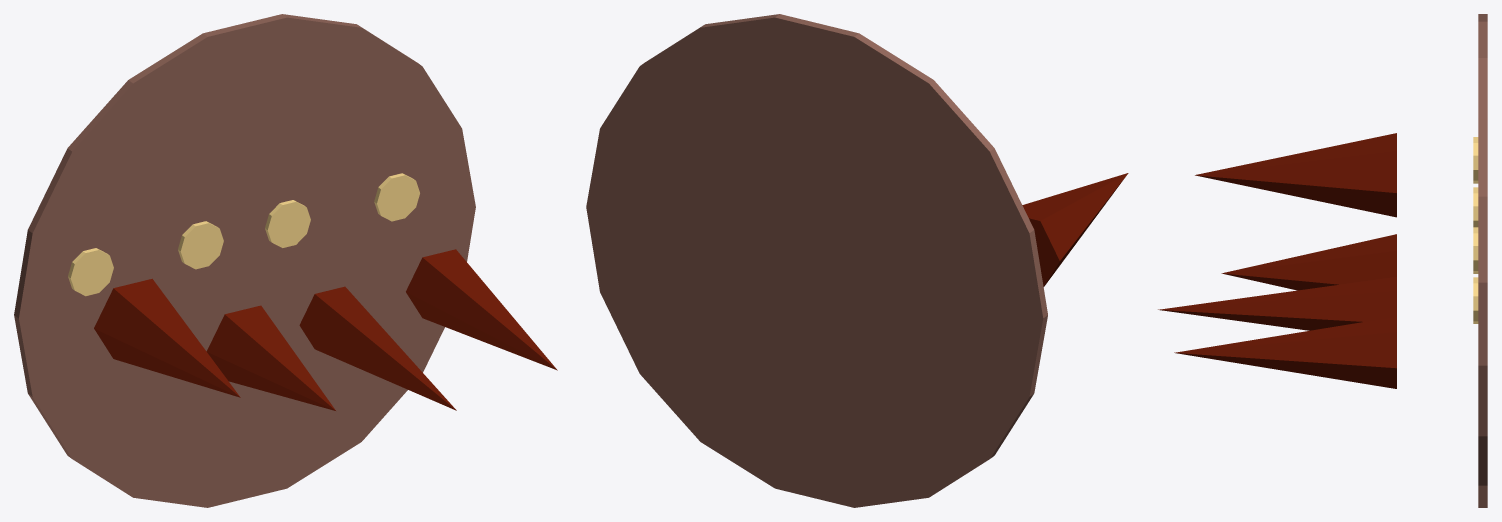
File: 02_local_prop_cluster.glb
The picture shows the model from 3 angles, left to right: view 1: azimuth 30°, elevation 25°; view 2: azimuth 150°, elevation 25°; view 3: azimuth 270°, elevation 25°; orthographic projection. The views are drawn at different scales.
Parts seen in each view (by area): view 1: scatter_base, basalt_shard_0, basalt_shard_3, basalt_shard_2, basalt_shard_1, lava_glow_0, lava_glow_1, lava_glow_2, lava_glow_3; view 2: scatter_base, basalt_shard_0; view 3: basalt_shard_0, basalt_shard_3, basalt_shard_2, basalt_shard_1, scatter_base.
Boxes of the visible parts, <box> form: scatter_base: <box>14,14,475,507</box>; basalt_shard_0: <box>94,278,240,397</box>; basalt_shard_3: <box>406,249,557,370</box>; basalt_shard_2: <box>299,286,456,410</box>; basalt_shard_1: <box>206,305,335,410</box>; lava_glow_0: <box>68,248,113,296</box>; lava_glow_1: <box>178,221,223,269</box>; lava_glow_2: <box>265,200,310,247</box>; lava_glow_3: <box>374,173,419,221</box>; scatter_base: <box>586,14,1047,507</box>; basalt_shard_0: <box>1022,173,1128,286</box>; basalt_shard_0: <box>1195,133,1396,217</box>; basalt_shard_3: <box>1174,316,1396,388</box>; basalt_shard_2: <box>1158,277,1396,330</box>; basalt_shard_1: <box>1221,234,1396,290</box>; scatter_base: <box>1478,14,1487,507</box>.
Bounding box in the file's own units: 1.9 × 1.87 × 1.26.
